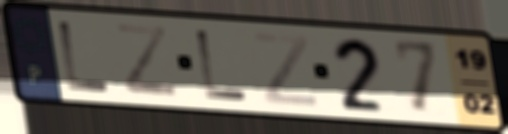2: (326, 32, 392, 117)
7: (391, 38, 442, 118)
L: (55, 18, 115, 95), (193, 26, 252, 104)
Z: (111, 20, 183, 100), (250, 29, 320, 110)
